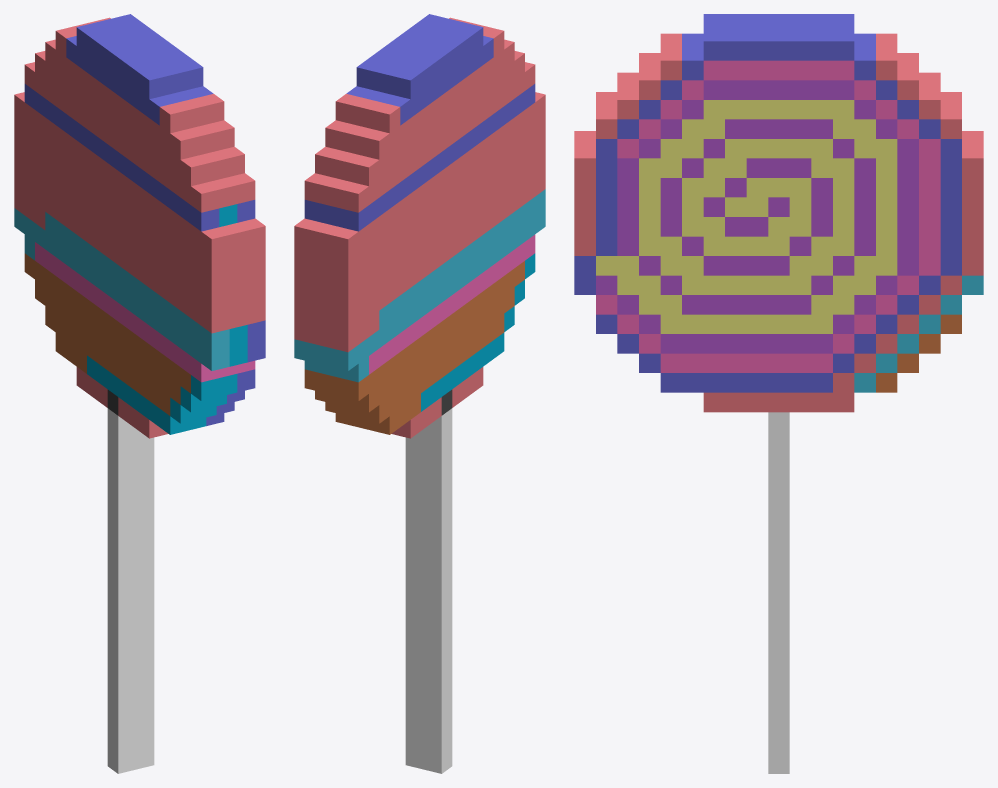
The model's file is Eruption-33.obj.
The picture shows the model from 3 angles, left to right: view 1: azimuth 30°, elevation 25°; view 2: azimuth 150°, elevation 25°; view 3: azimuth 270°, elevation 25°; orthographic projection. The views are drawn at different scales.
Bounding box in the file's own units: 0.3 × 3.8 × 1.9.
1 material, 1 textured.
